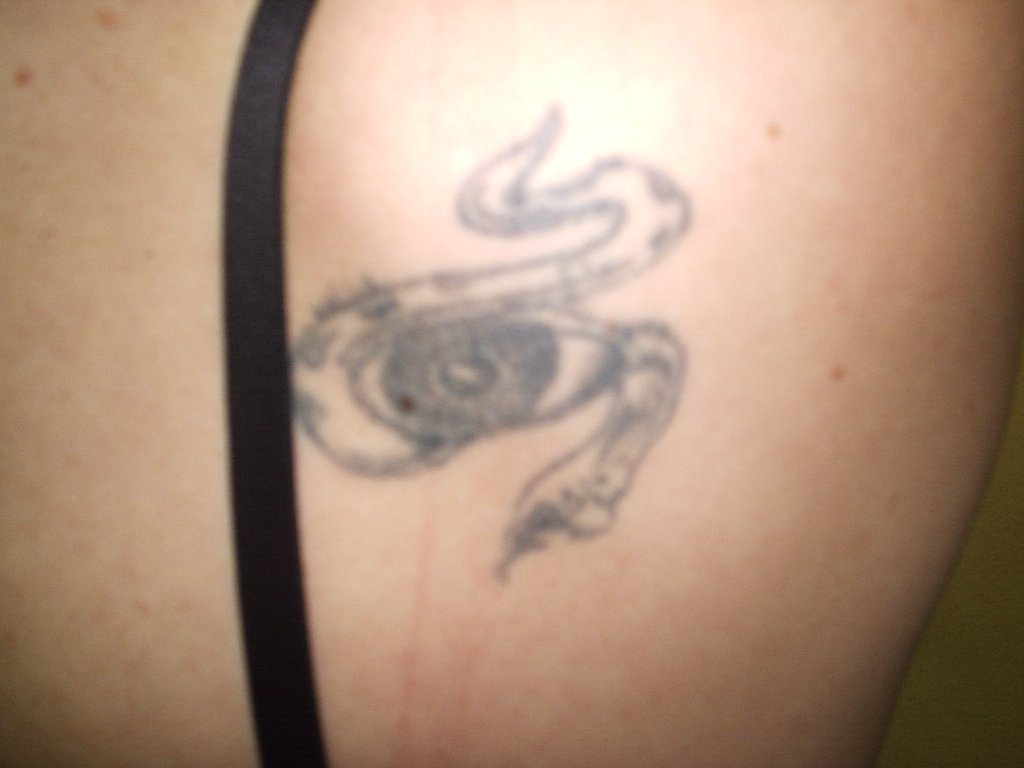tatu7_zmeya: (260, 96, 721, 557)
